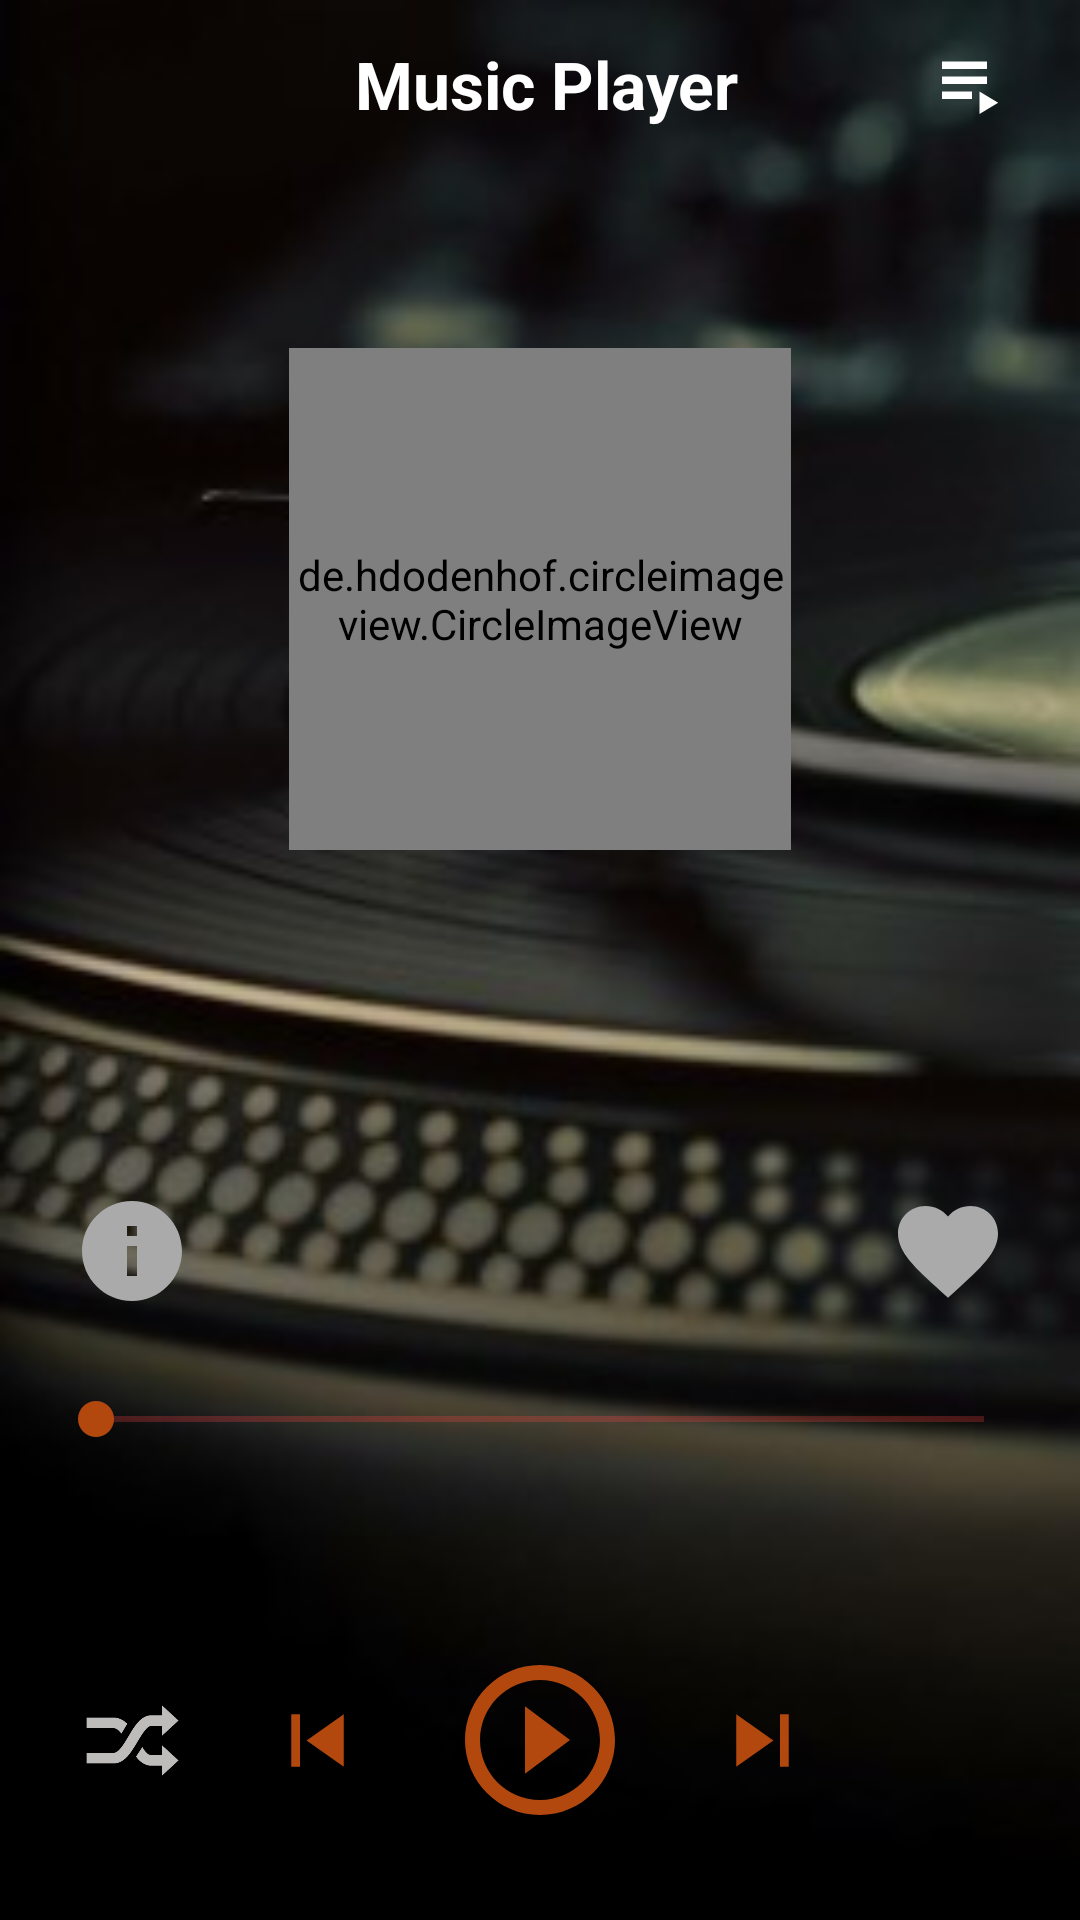

Where to tap for icons on this 1080 x 1920 app screen, as (x=x, y=y):
favorite: (x=947, y=1254)
info: (x=132, y=1251)
next play: (x=762, y=1740)
play: (x=540, y=1740)
playlist: (x=965, y=85)
previous play: (x=317, y=1740)
shuffle: (x=132, y=1740)
